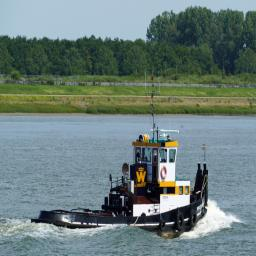tugboat: (31, 69, 212, 244)
